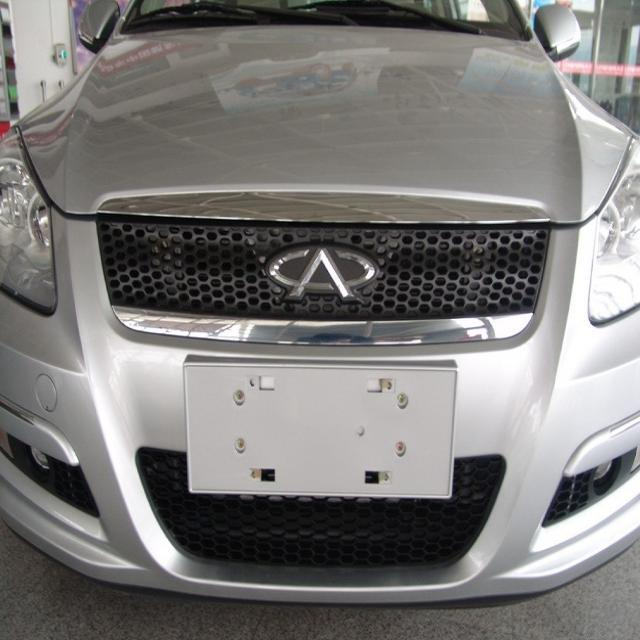front_bumper: (3, 212, 640, 609)
front_left_side_light: (583, 136, 640, 325)
front_left_side_mirror: (538, 5, 586, 65)
front_right_side_light: (0, 120, 56, 316)
front_right_side_mirror: (75, 0, 122, 52)
